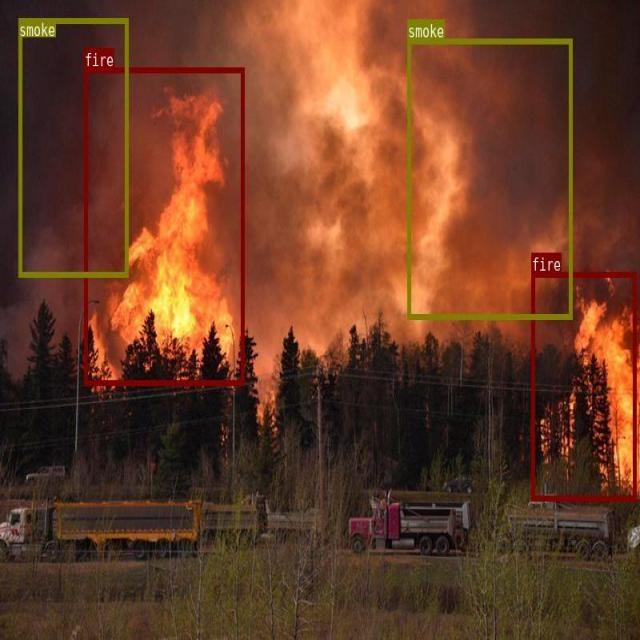fire: (83, 67, 244, 384), (531, 272, 636, 499)
smoke: (407, 39, 572, 319), (18, 18, 128, 277)
